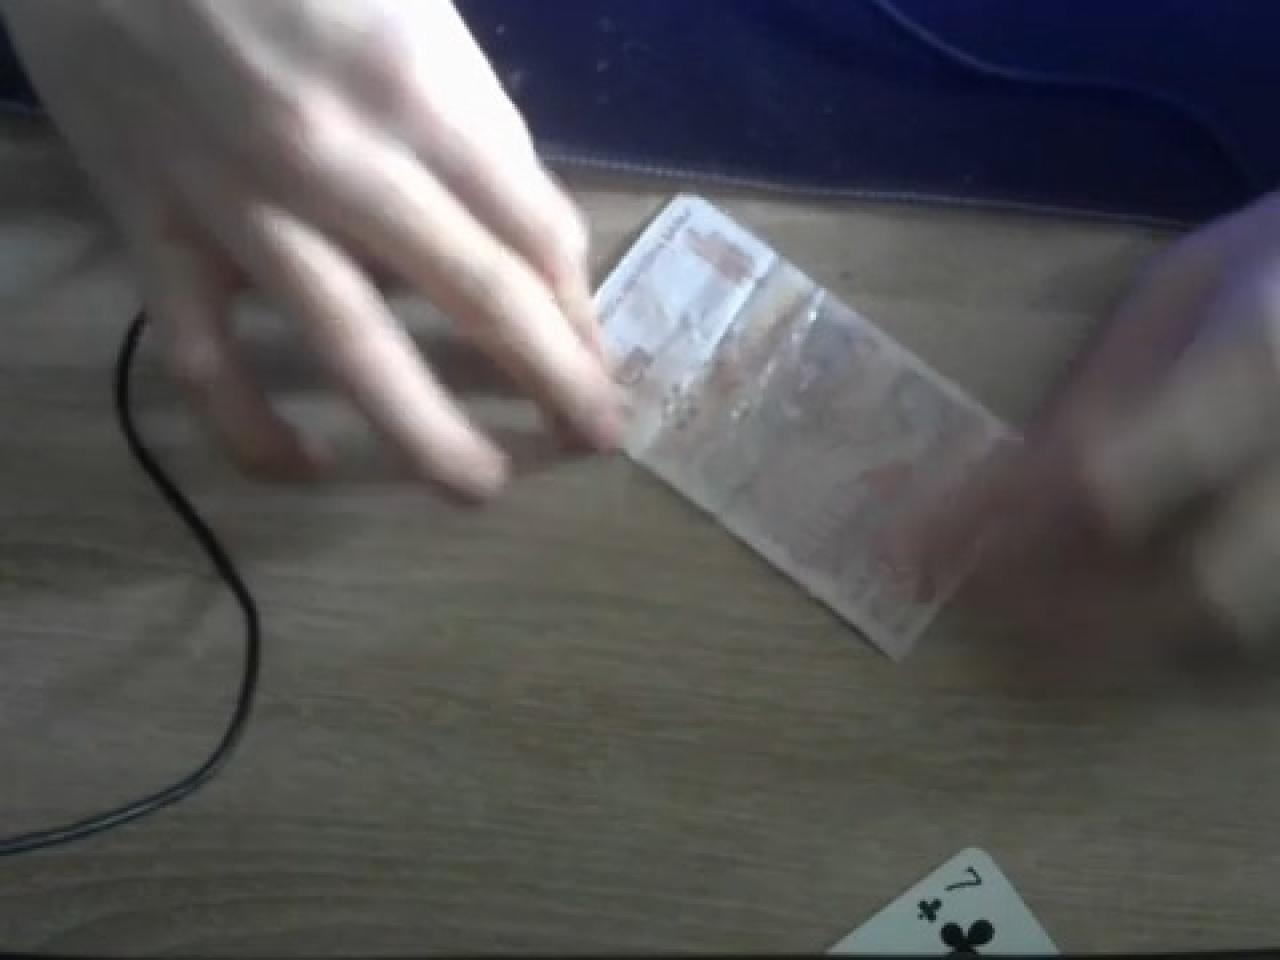5leva: (590, 195, 1102, 662)
